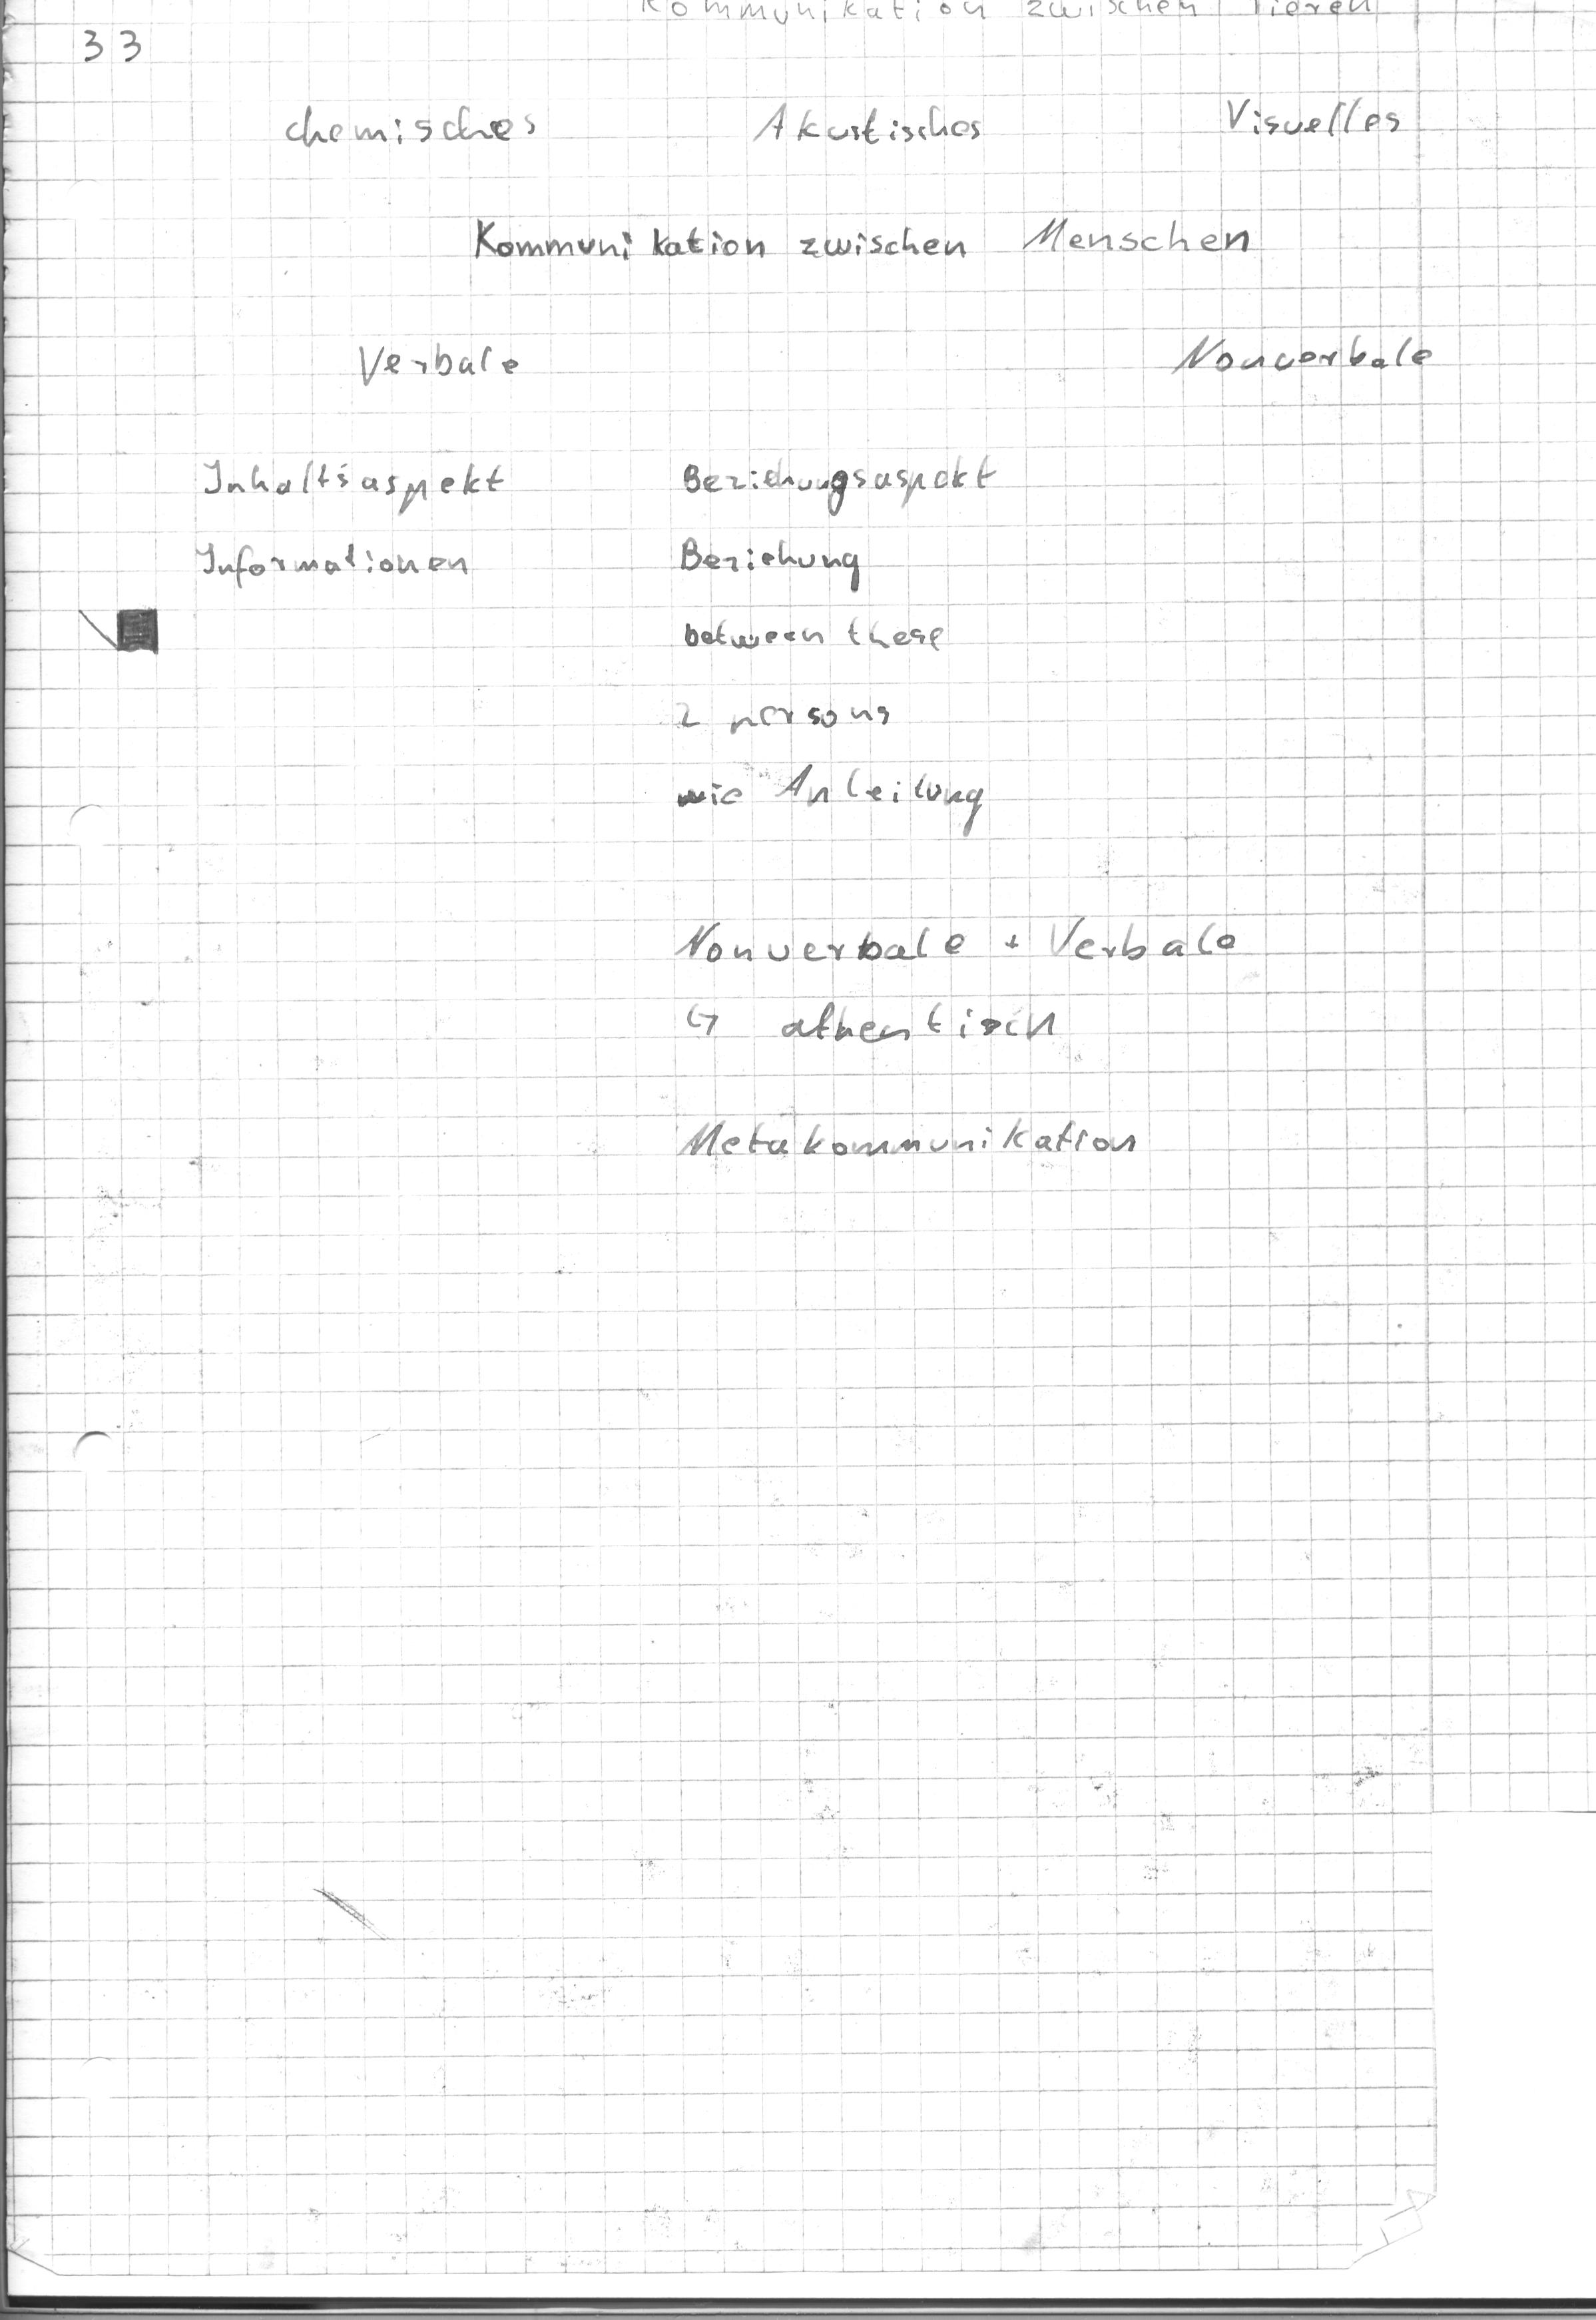word: (662, 445, 997, 840), (665, 906, 1251, 1055), (178, 435, 517, 613), (666, 1088, 1145, 1194), (738, 88, 992, 164), (1160, 320, 1446, 387), (1203, 74, 1414, 162), (270, 93, 549, 154), (346, 330, 529, 400)
